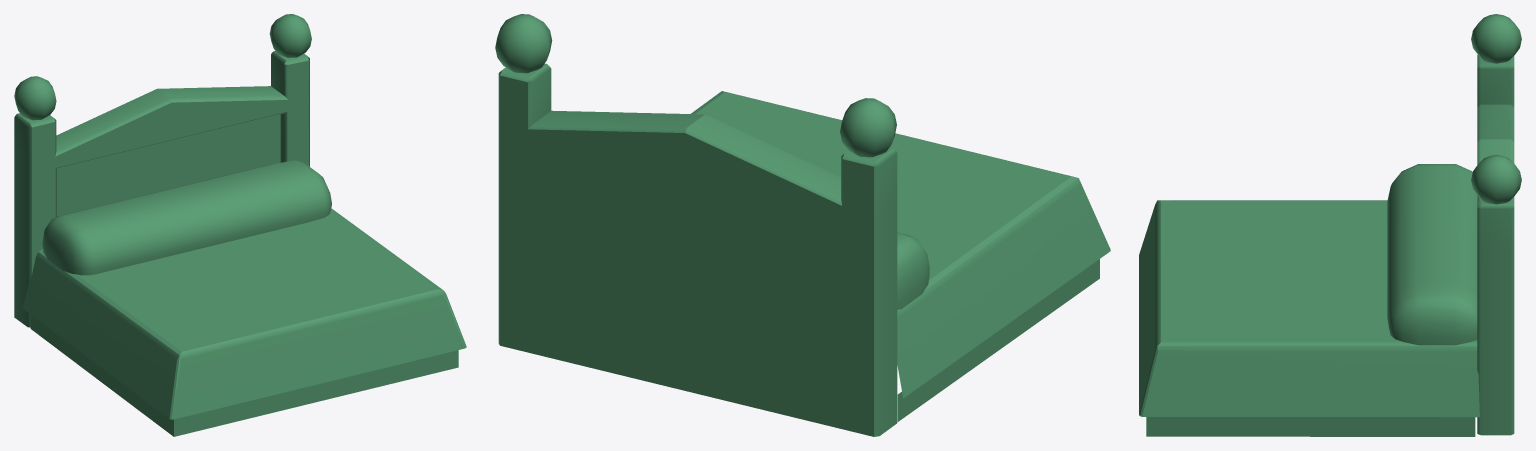
The model's file is Bed_V3.fbx.
The picture shows the model from 3 angles, left to right: view 1: azimuth 30°, elevation 25°; view 2: azimuth 150°, elevation 25°; view 3: azimuth 270°, elevation 25°; orthographic projection. The views are drawn at different scales.
Parts seen in each view (by area): view 1: Bed; view 2: Bed; view 3: Bed.
Part boxes in pixels (x1,y1,x2,y2): Bed: (14,14,466,436); Bed: (495,14,1110,436); Bed: (1139,14,1521,436).
Size of the model in its own units: 368 by 285 by 363.
